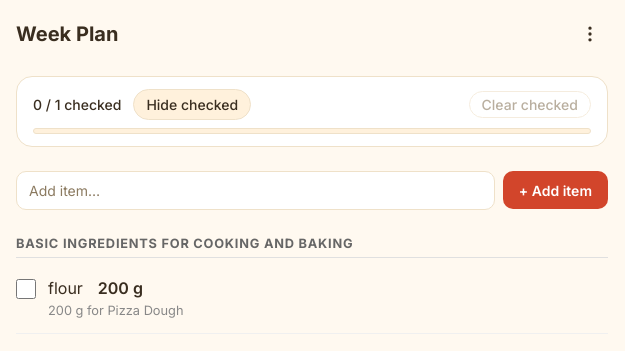
Test case: ShoppingListView › regenerate overflow menu › shows "Generating…" and disables the menu item while store.regenerating is true
Click the button named "More actions".
click(590, 34)  # box [572,16,608,52]
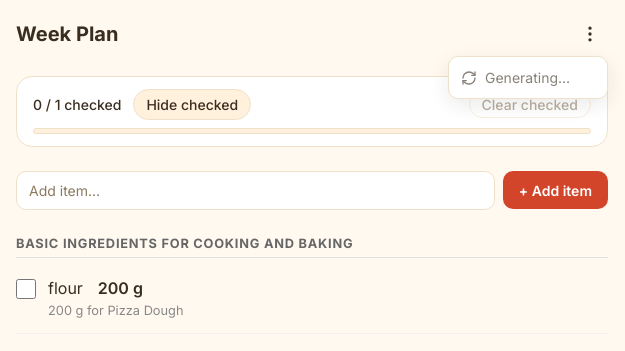
Now the menu item with test id "regenerate-menu-item" reads "Generating…", box [449,61,607,94]
Now the menu item with test id "regenerate-menu-item" is disabled, box [449,61,607,94]
